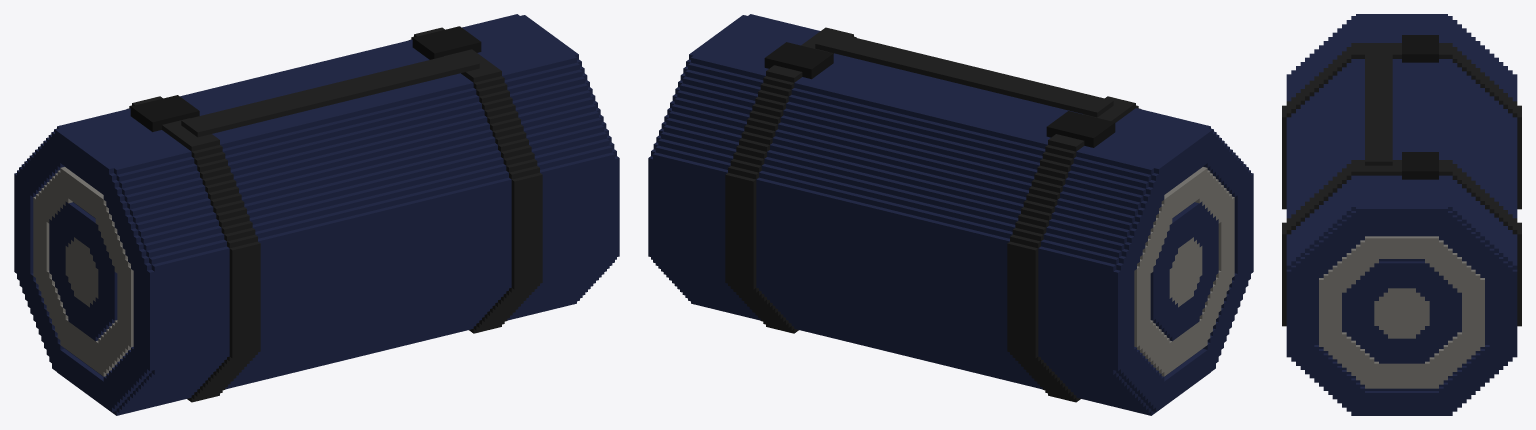
Rendered from sleeping_bag_roll.glb.
The picture shows the model from 3 angles, left to right: view 1: azimuth 30°, elevation 25°; view 2: azimuth 150°, elevation 25°; view 3: azimuth 270°, elevation 25°; orthographic projection. The views are drawn at different scales.
Parts seen in each view (by area): view 1: sleeping_bag_roll:compound; view 2: sleeping_bag_roll:compound; view 3: sleeping_bag_roll:compound.
Boxes of the visible parts, bbox=[...] form: sleeping_bag_roll:compound: bbox=[14, 14, 619, 415]; sleeping_bag_roll:compound: bbox=[648, 14, 1253, 415]; sleeping_bag_roll:compound: bbox=[1282, 14, 1521, 415].
Size of the model in its own units: 0.4 by 0.212 by 0.208.
